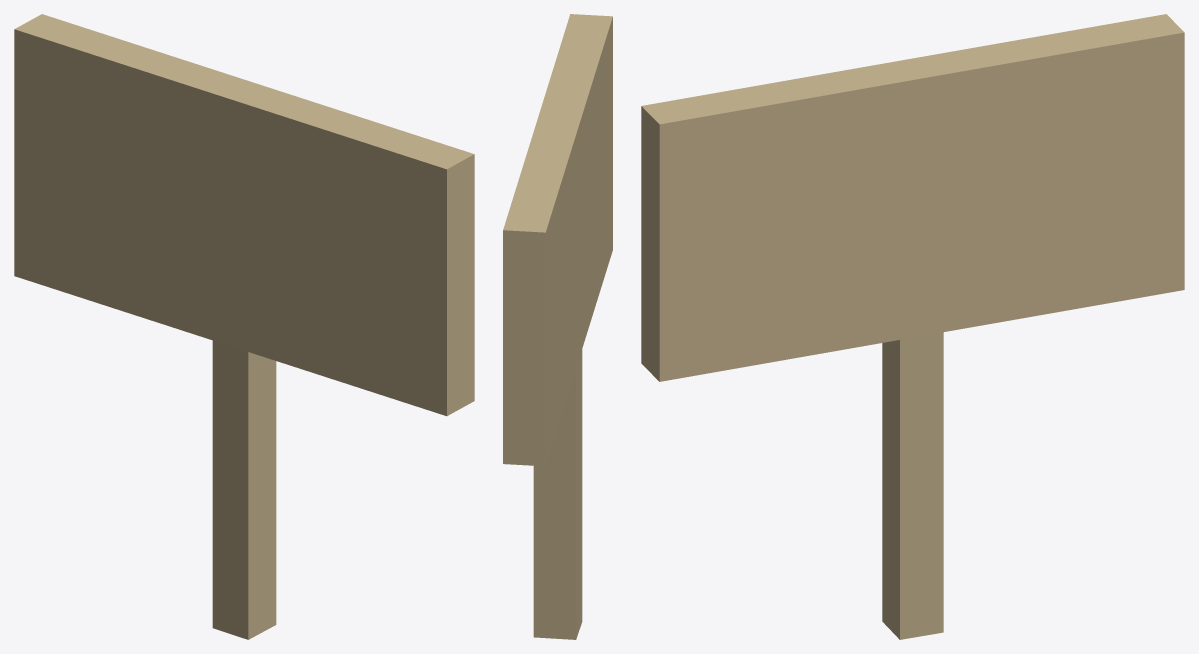
File: Sign 1.fbx
3 renders of one model, left to right at view 1: azimuth 30°, elevation 25°; view 2: azimuth 150°, elevation 25°; view 3: azimuth 270°, elevation 25°, orthographic. The views are drawn at different scales.
Visible parts, largest first — view 1: Sign; view 2: Sign; view 3: Sign.
Boxes of the visible parts, x1,y1,x2,y2 form: Sign: (14,14,474,639); Sign: (503,14,612,639); Sign: (641,14,1184,639).
Size of the model in its own units: 46 by 108 by 95.6.
